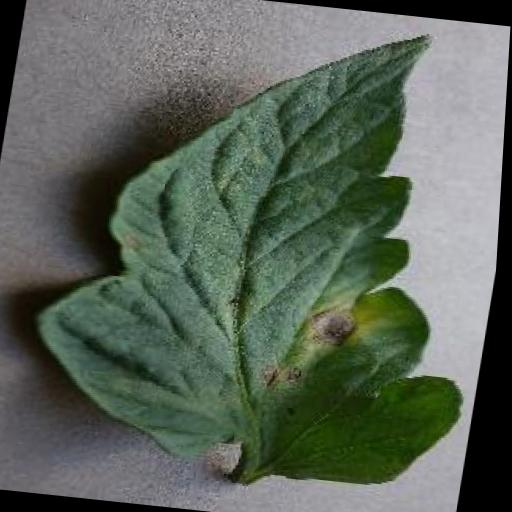Early Blight: (16, 0, 512, 494)
